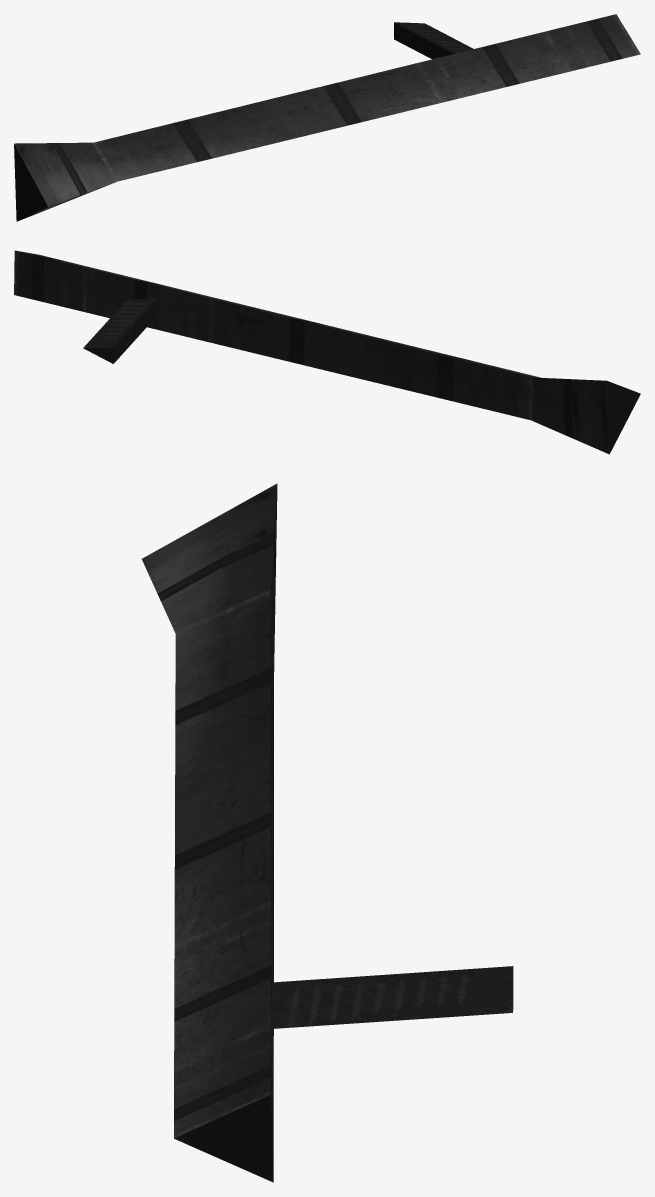
Rendered from t6_wpn_launch_usrpg_world_LOD2.obj.
3 renders of one model, top to bottom at view 1: azimuth 30°, elevation 25°; view 2: azimuth 150°, elevation 25°; view 3: azimuth 270°, elevation 25°, orthographic. The views are drawn at different scales.
Visible parts, largest first — view 1: mtl_t6_wpn_launch_usrpg, mtl_t6_wpn_launch_usrpg_camo4, mtl_t6_wpn_launch_usrpg_camo2; view 2: mtl_t6_wpn_launch_usrpg, mtl_t6_wpn_launch_usrpg_camo4, mtl_t6_wpn_launch_usrpg_camo2; view 3: mtl_t6_wpn_launch_usrpg, mtl_t6_wpn_launch_usrpg_camo4.
Boxes of the visible parts, left/top/right/bottom form: mtl_t6_wpn_launch_usrpg: left=14, top=14, right=640, bottom=220; mtl_t6_wpn_launch_usrpg_camo4: left=394, top=22, right=473, bottom=59; mtl_t6_wpn_launch_usrpg_camo2: left=14, top=144, right=47, bottom=221; mtl_t6_wpn_launch_usrpg: left=14, top=250, right=609, bottom=454; mtl_t6_wpn_launch_usrpg_camo4: left=83, top=299, right=156, bottom=363; mtl_t6_wpn_launch_usrpg_camo2: left=607, top=381, right=640, bottom=453; mtl_t6_wpn_launch_usrpg: left=142, top=483, right=277, bottom=1182; mtl_t6_wpn_launch_usrpg_camo4: left=272, top=966, right=513, bottom=1028.
Size of the model in its own units: 90.69 by 11.04 by 24.58.
